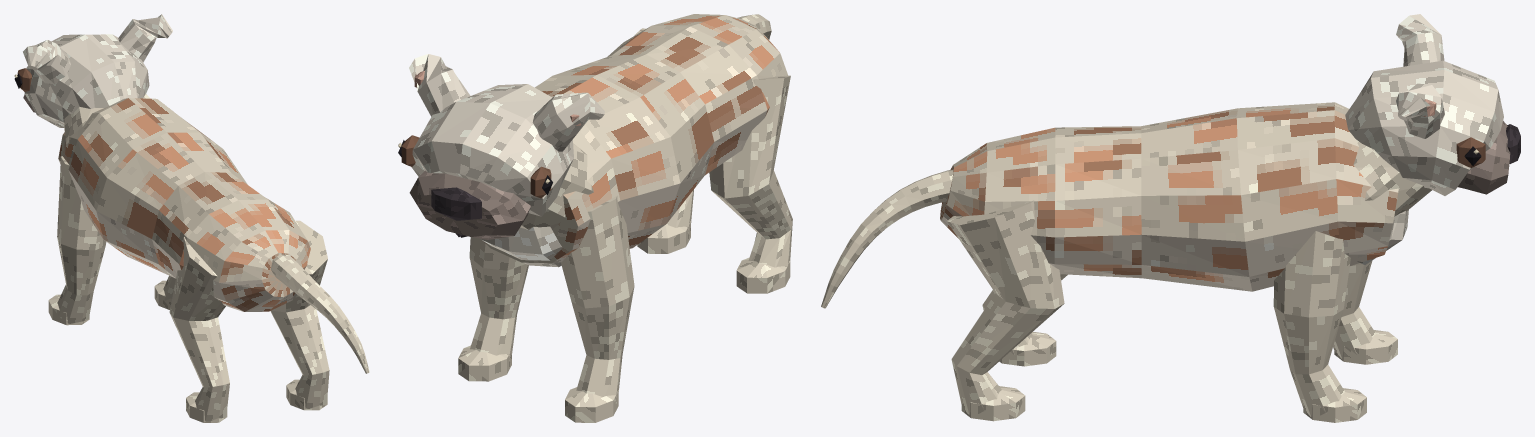
File: mon_dog_bull.glb
3 views of the same model, side by side, from view 1: azimuth 30°, elevation 25°; view 2: azimuth 150°, elevation 25°; view 3: azimuth 270°, elevation 25° (orthographic). The views are drawn at different scales.
Visible parts, largest first — view 1: closed_body; view 2: closed_body; view 3: closed_body.
Part boxes in pixels (x1,y1,x2,y2): closed_body: (14,14,369,422); closed_body: (398,14,792,422); closed_body: (821,14,1520,422).
Bounding box in the file's own units: 0.3567 × 0.6276 × 1.18.
Materials: 1 (1 with a texture image).
